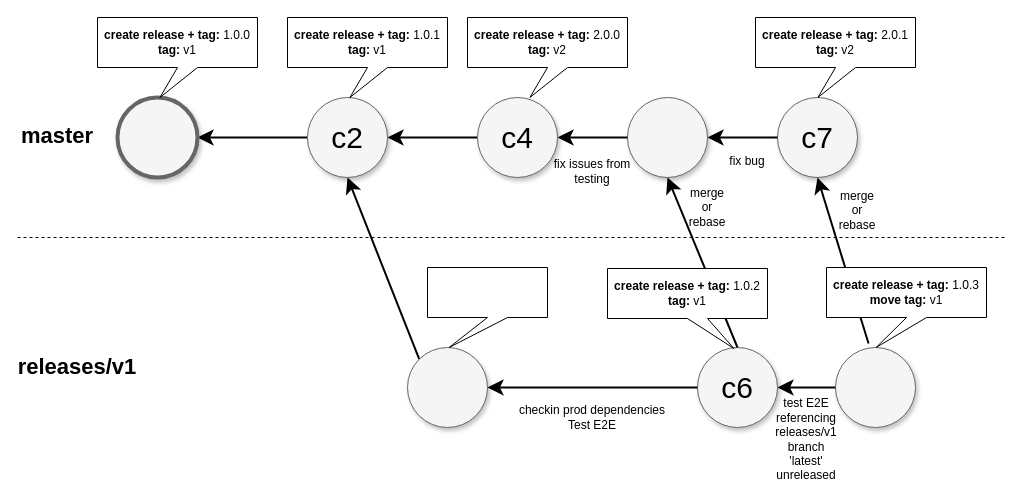
Image size: 1026x500. Some labels were removed from this diagram. The centre of each missing label's shape, as x and y in pixels:
branch: releases/v1: the point at 487,307
c1: the point at 158,138
c3: the point at 448,388
c5: the point at 668,138
c8: the point at 876,388
